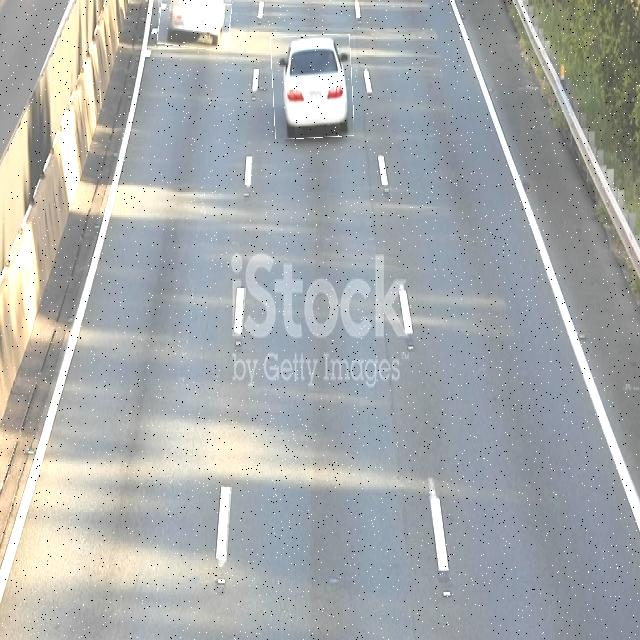Car: (272, 35, 353, 138), (158, 0, 231, 49)
